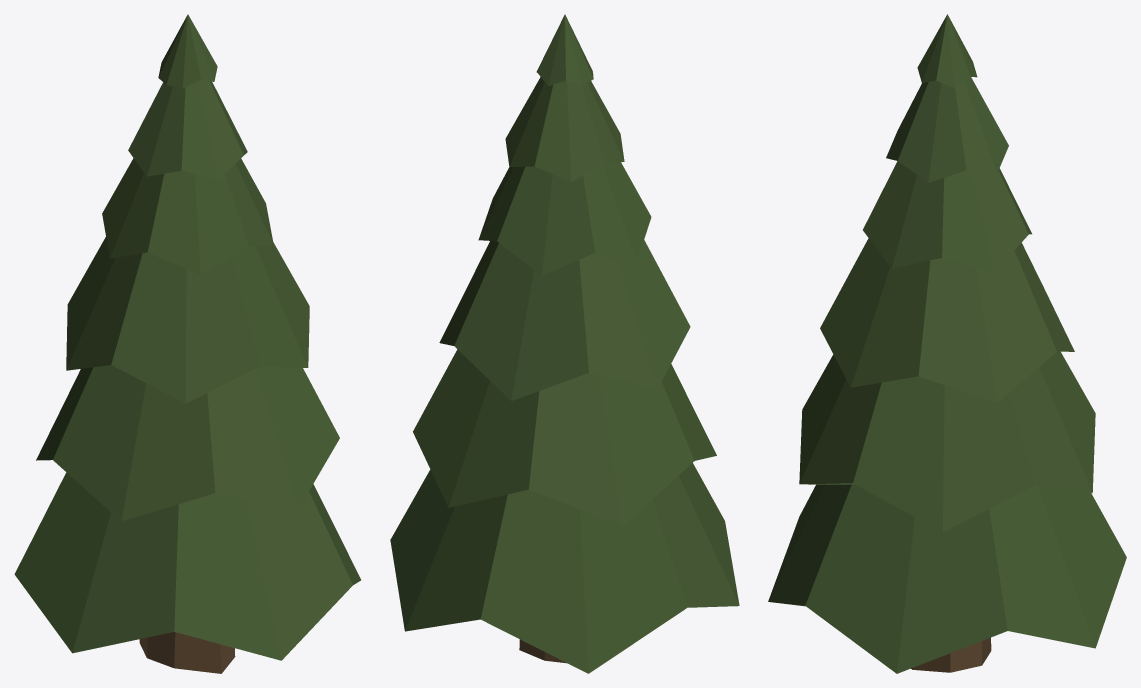
Rendered from grand_sapin.fbx.
The picture shows the model from 3 angles, left to right: view 1: azimuth 30°, elevation 25°; view 2: azimuth 150°, elevation 25°; view 3: azimuth 270°, elevation 25°; orthographic projection.
Parts seen in each view (by area): view 1: Cône.011; view 2: Cône.011; view 3: Cône.011.
Boxes of the visible parts, x1,y1,x2,y2 form: Cône.011: (14, 14, 360, 673); Cône.011: (390, 14, 739, 673); Cône.011: (768, 14, 1126, 673).
Bounding box in the file's own units: 653 × 1340 × 680.
